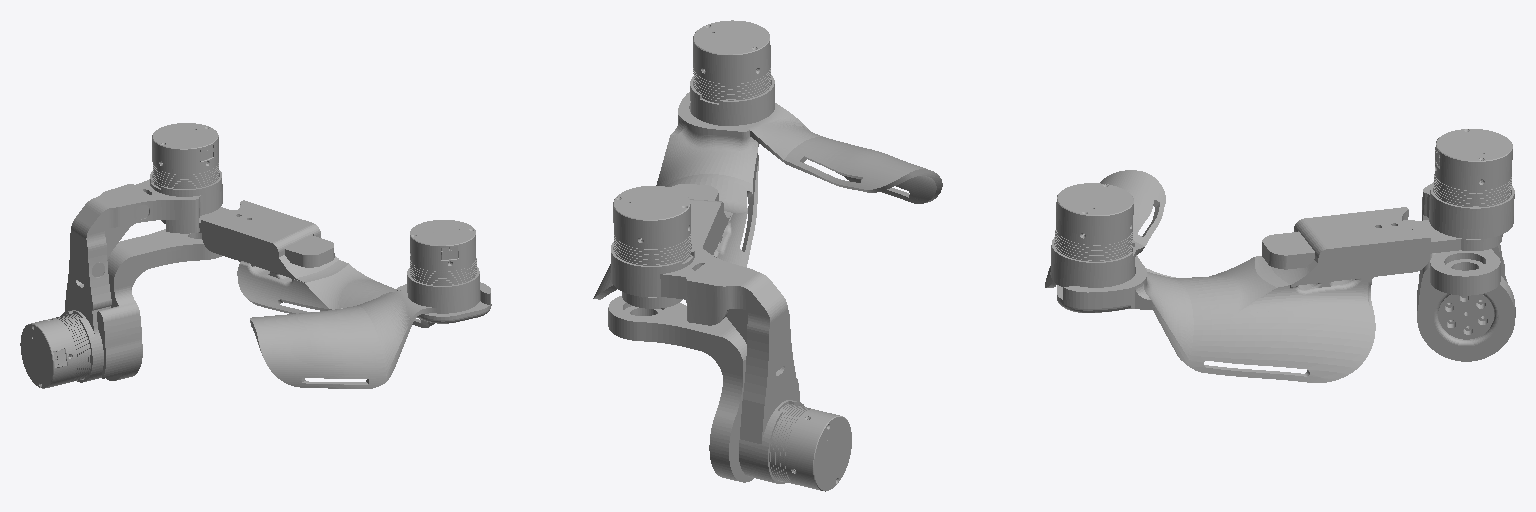
URDF robot description (exo):
<?xml version="1.0" ?>
<!-- =================================================================================== -->
<!-- |    This document was autogenerated by xacro from src/exo_description/urdf/exo.xacro | -->
<!-- |    EDITING THIS FILE BY HAND IS NOT RECOMMENDED                                 | -->
<!-- =================================================================================== -->
<robot name="exo">
  <material name="silver">
    <color rgba="0.700 0.700 0.700 1.000"/>
  </material>
  <material name="black">
    <color rgba="0.200 0.200 0.200 1.000"/>
  </material>
  <link name="world"/>
  <joint name="world_fixed" type="fixed">
    <parent link="world"/>
    <child link="base_link"/>
    <origin rpy="0 0 0" xyz="0 0 0.6"/>
  </joint>
  <!-- All modes mount each arm under a shared base_link with prefix-aware mount joints. -->
  <link name="base_link">
    <inertial>
      <origin rpy="0 0 0" xyz="0 0 0"/>
      <mass value="0.001"/>
      <inertia ixx="1e-06" ixy="0" ixz="0" iyy="1e-06" iyz="0" izz="1e-06"/>
    </inertial>
  </link>
  <joint name="left_mount_joint" type="fixed">
    <origin rpy="0 0 0" xyz="0 0.2 0"/>
    <parent link="base_link"/>
    <child link="left_base_link"/>
  </joint>
  <link name="left_base_link">
    <inertial>
      <origin rpy="0 0 0" xyz="-0.06508829102930236 -0.0016392947082375286 -0.029106797642733048"/>
      <mass value="0.071076"/>
      <inertia ixx="0.000253" ixy="-9e-06" ixz="-0.000127" iyy="0.00039" iyz="-4e-06" izz="0.000225"/>
    </inertial>
    <visual>
      <origin rpy="0 0 0" xyz="0 0 0"/>
      <geometry>
        <mesh filename="package://exo_description/meshes/exo_assembly/left/base_link.stl" scale="0.001 0.001 0.001"/>
      </geometry>
      <material name="silver"/>
    </visual>
  </link>
  <link name="left_motor_1">
    <inertial>
      <origin rpy="0 0 0" xyz="-0.028657148535228882 -0.0008037659584219806 0.00012366679922792834"/>
      <mass value="0.3365576984957861"/>
      <inertia ixx="0.000158" ixy="-7e-06" ixz="1e-06" iyy="0.000207" iyz="1e-06" izz="0.000208"/>
    </inertial>
    <visual>
      <origin rpy="0 0 0" xyz="0.094353 -0.00061 0.063136"/>
      <geometry>
        <mesh filename="package://exo_description/meshes/exo_assembly/left/Left_Motor_1_1.stl" scale="0.001 0.001 0.001"/>
      </geometry>
      <material name="silver"/>
    </visual>
  </link>
  <link name="left_component_1">
    <inertial>
      <origin rpy="0 0 0" xyz="0.017291080002229037 0.002735639742798342 0.08182000531860147"/>
      <mass value="0.13580987071810816"/>
      <inertia ixx="0.000224" ixy="4e-06" ixz="-0.000101" iyy="0.000337" iyz="-2e-06" izz="0.000165"/>
    </inertial>
    <visual>
      <origin rpy="0 0 0" xyz="0.097353 -0.00061 0.063136"/>
      <geometry>
        <mesh filename="package://exo_description/meshes/exo_assembly/left/Left_Component_1_1.stl" scale="0.001 0.001 0.001"/>
      </geometry>
      <material name="silver"/>
    </visual>
  </link>
  <link name="left_motor_2">
    <inertial>
      <origin rpy="0 0 0" xyz="9.522009318585489e-05 8.756209107413371e-05 0.025669346895594282"/>
      <mass value="0.3365576984957861"/>
      <inertia ixx="0.000208" ixy="0.0" ixz="-1e-06" iyy="0.000207" iyz="5e-06" izz="0.000158"/>
    </inertial>
    <visual>
      <origin rpy="0 0 0" xyz="0.010353 -0.004345 -0.043799"/>
      <geometry>
        <mesh filename="package://exo_description/meshes/exo_assembly/left/Left_Motor_2_1.stl" scale="0.001 0.001 0.001"/>
      </geometry>
      <material name="silver"/>
    </visual>
  </link>
  <link name="left_component_2">
    <inertial>
      <origin rpy="0 0 0" xyz="0.02130252609513996 -0.06354392139822984 -0.004297968633705511"/>
      <mass value="0.06901401596668413"/>
      <inertia ixx="0.000158" ixy="5e-05" ixz="-2e-06" iyy="2.6e-05" iyz="5e-06" izz="0.000182"/>
    </inertial>
    <visual>
      <origin rpy="0 0 0" xyz="0.010353 -0.00424 -0.040801"/>
      <geometry>
        <mesh filename="package://exo_description/meshes/exo_assembly/left/Left_Component_2_1.stl" scale="0.001 0.001 0.001"/>
      </geometry>
      <material name="silver"/>
    </visual>
  </link>
  <link name="left_component_3">
    <inertial>
      <origin rpy="0 0 0" xyz="0.03615700401627118 -0.08448867239925995 -0.008977979556696391"/>
      <mass value="0.25726311190565365"/>
      <inertia ixx="0.001177" ixy="0.0004" ixz="3.6e-05" iyy="0.000369" iyz="2.1e-05" izz="0.001416"/>
    </inertial>
    <visual>
      <origin rpy="0 0 0" xyz="-0.007995 0.050713 -0.030712"/>
      <geometry>
        <mesh filename="package://exo_description/meshes/exo_assembly/left/Left_Component_3_1.stl" scale="0.001 0.001 0.001"/>
      </geometry>
      <material name="silver"/>
    </visual>
  </link>
  <link name="left_motor_3">
    <inertial>
      <origin rpy="0 0 0" xyz="-0.0002717727838932593 0.00017757175027499628 0.028666777586146615"/>
      <mass value="0.3365576984957861"/>
      <inertia ixx="0.000208" ixy="-0.0" ixz="2e-06" iyy="0.000207" iyz="5e-06" izz="0.000158"/>
    </inertial>
    <visual>
      <origin rpy="0 0 0" xyz="-0.07979 0.264928 -0.040288"/>
      <geometry>
        <mesh filename="package://exo_description/meshes/exo_assembly/left/Left_Motor_3_1.stl" scale="0.001 0.001 0.001"/>
      </geometry>
      <material name="silver"/>
    </visual>
  </link>
  <link name="left_component_4">
    <inertial>
      <origin rpy="0 0 0" xyz="-0.08439620971621951 0.0033097944704012505 -0.008999385990610932"/>
      <mass value="0.07092471532695957"/>
      <inertia ixx="4.2e-05" ixy="1.3e-05" ixz="-2.2e-05" iyy="0.000201" iyz="-1e-05" izz="0.000218"/>
    </inertial>
    <visual>
      <origin rpy="0 0 0" xyz="-0.079795 0.264831 -0.043287"/>
      <geometry>
        <mesh filename="package://exo_description/meshes/exo_assembly/left/Left_Component_4_1.stl" scale="0.001 0.001 0.001"/>
      </geometry>
      <material name="silver"/>
    </visual>
  </link>
  <joint name="left_revolute_1" type="revolute">
    <origin rpy="0 0 0" xyz="-0.094353 0.00061 -0.063136"/>
    <parent link="left_base_link"/>
    <child link="left_motor_1"/>
    <axis xyz="1.0 0.0 0.0"/>
    <limit effort="20" lower="-3.14" upper="0" velocity="11"/>
  </joint>
  <joint name="left_fixed_1" type="fixed">
    <origin rpy="0 0 0" xyz="-0.003 0.0 0.0"/>
    <parent link="left_motor_1"/>
    <child link="left_component_1"/>
  </joint>
  <joint name="left_fixed_2" type="fixed">
    <origin rpy="0 0 0" xyz="0.087 0.003735 0.106935"/>
    <parent link="left_component_1"/>
    <child link="left_motor_2"/>
  </joint>
  <joint name="left_revolute_2" type="revolute">
    <origin rpy="0 0 0" xyz="0.0 -0.000105 -0.002998"/>
    <parent link="left_motor_2"/>
    <child link="left_component_2"/>
    <axis xyz="0.0 -0.034899 -0.999391"/>
    <limit effort="20" lower="-3.3" upper="0" velocity="11"/>
  </joint>
  <joint name="left_fixed_3" type="fixed">
    <origin rpy="0 0 0" xyz="0.018348 -0.054953 -0.010089"/>
    <parent link="left_component_2"/>
    <child link="left_component_3"/>
  </joint>
  <joint name="left_revolute_3" type="revolute">
    <origin rpy="0 0 0" xyz="0.071795 -0.214215 0.009576"/>
    <parent link="left_component_3"/>
    <child link="left_motor_3"/>
    <axis xyz="-0.001694 -0.032292 -0.999477"/>
    <limit effort="20" lower="-2.08" upper="0" velocity="11"/>
  </joint>
  <joint name="left_fixed_4" type="fixed">
    <origin rpy="0 0 0" xyz="5e-06 9.7e-05 0.002999"/>
    <parent link="left_motor_3"/>
    <child link="left_component_4"/>
  </joint>
  <ros2_control name="exo_system" type="system">
    <hardware>
      <plugin>exo_hardware/teensy_plugin</plugin>
      <param name="effort_stiction_comp_enabled">false</param>
      <param name="motor_ids">4,5,6</param>
      <param name="joint_directions">-1,1,-1</param>
      <param name="effort_stiction_tau_values">0.65,0.86,1.26</param>
      <param name="effort_stiction_slope_values">1, 1, 1</param>
    </hardware>
    <joint name="left_revolute_1">
      <command_interface name="effort"/>
      <state_interface name="position">
        <param name="initial_value">-1.53</param>
      </state_interface>
      <state_interface name="velocity"/>
      <state_interface name="effort"/>
    </joint>
    <joint name="left_revolute_2">
      <command_interface name="effort"/>
      <state_interface name="position">
        <param name="initial_value">-2.82</param>
      </state_interface>
      <state_interface name="velocity"/>
      <state_interface name="effort"/>
    </joint>
    <joint name="left_revolute_3">
      <command_interface name="effort"/>
      <state_interface name="position">
        <param name="initial_value">-2.00</param>
      </state_interface>
      <state_interface name="velocity"/>
      <state_interface name="effort"/>
    </joint>
  </ros2_control>
</robot>

--- Facts derived from the render (not from the file) ---
Views: 3 orthographic renders of the robot side by side, from view 1: azimuth 30°, elevation 25°; view 2: azimuth 150°, elevation 25°; view 3: azimuth 270°, elevation 25°.
Robot: exo — 10 links, 9 joints (3 revolute, 6 fixed); root link world; default pose: every joint at zero.
Visible links, largest first — view 1: left_component_4, left_component_3, left_component_1, left_base_link, left_motor_1, left_motor_2, left_motor_3, left_component_2; view 2: left_component_1, left_component_3, left_component_4, left_base_link, left_motor_1, left_motor_3, left_motor_2, left_component_2; view 3: left_component_3, left_base_link, left_motor_3, left_motor_2, left_component_4, left_component_1, left_component_2.
Link boxes in pixels (bbox=[...]): left_component_4: bbox=[250, 267, 479, 388]; left_component_3: bbox=[201, 200, 491, 327]; left_component_1: bbox=[61, 170, 222, 382]; left_base_link: bbox=[97, 229, 221, 380]; left_motor_1: bbox=[20, 313, 90, 388]; left_motor_2: bbox=[152, 123, 218, 188]; left_motor_3: bbox=[410, 220, 476, 285]; left_component_2: bbox=[161, 207, 334, 267]; left_component_1: bbox=[611, 239, 804, 483]; left_component_3: bbox=[593, 92, 758, 299]; left_component_4: bbox=[690, 75, 942, 203]; left_base_link: bbox=[608, 296, 799, 482]; left_motor_1: bbox=[769, 404, 851, 491]; left_motor_3: bbox=[693, 20, 770, 102]; left_motor_2: bbox=[613, 186, 691, 265]; left_component_2: bbox=[622, 184, 718, 308]; left_component_3: bbox=[1057, 207, 1430, 382]; left_base_link: bbox=[1417, 249, 1515, 361]; left_motor_3: bbox=[1055, 183, 1133, 261]; left_motor_2: bbox=[1434, 129, 1512, 206]; left_component_4: bbox=[1045, 170, 1165, 287]; left_component_1: bbox=[1422, 182, 1514, 282]; left_component_2: bbox=[1262, 220, 1502, 269].
Size in the robot's own frame: 0.2744 by 0.3347 by 0.2008 metres.
Meshes: 8 distinct files referenced, 8 mesh visuals loaded (8 binary STL).
